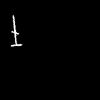double_crochet: (11, 16, 21, 45)
